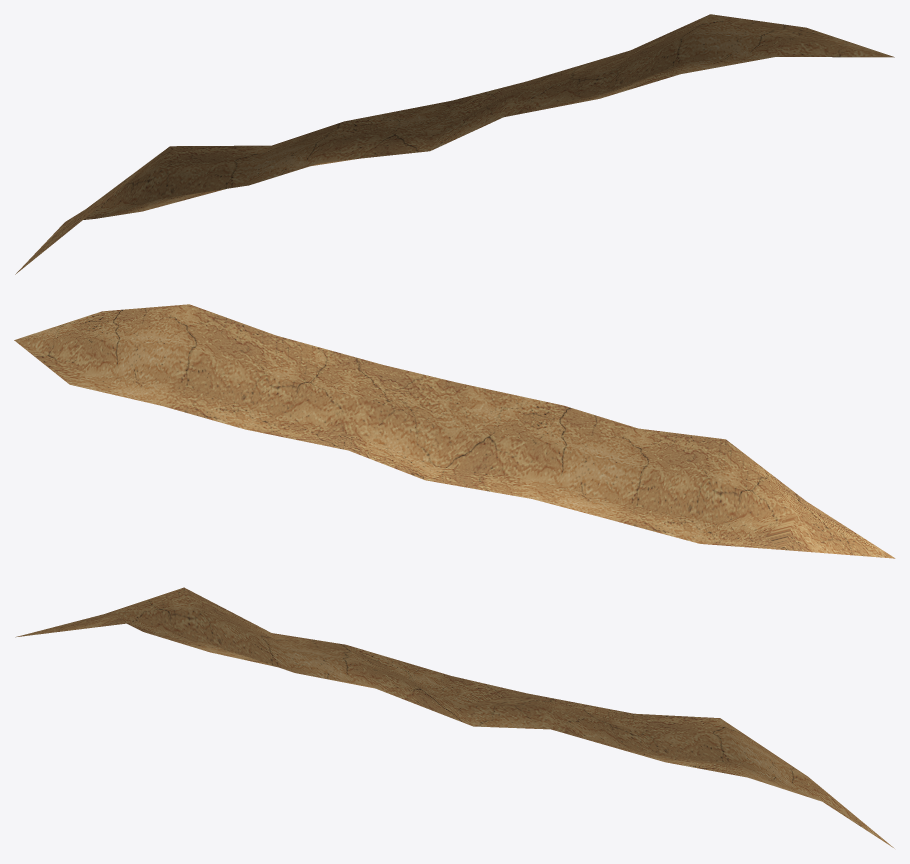
The model's file is Sand_Straight_01_4m.fbx.
3 renders of one model, top to bottom at view 1: azimuth 30°, elevation 25°; view 2: azimuth 150°, elevation 25°; view 3: azimuth 330°, elevation 25°, orthographic.
Visible parts, largest first — view 1: pPlane25; view 2: pPlane25; view 3: pPlane25.
Boxes of the visible parts, <box> form: pPlane25: <box>15,14,894,274</box>; pPlane25: <box>14,304,895,558</box>; pPlane25: <box>15,587,894,848</box>.
Size of the model in its own units: 424 by 42.02 by 28.84.
